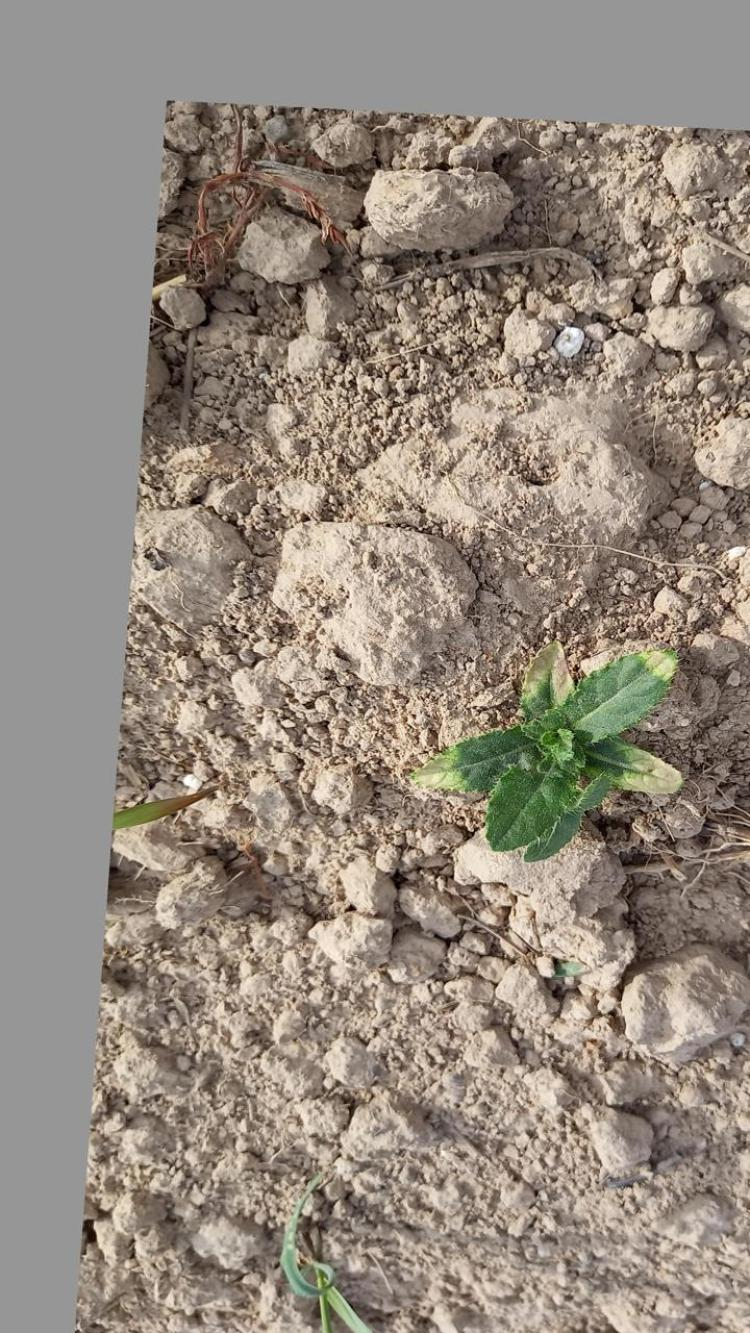bodyak: (430, 644, 685, 862)
